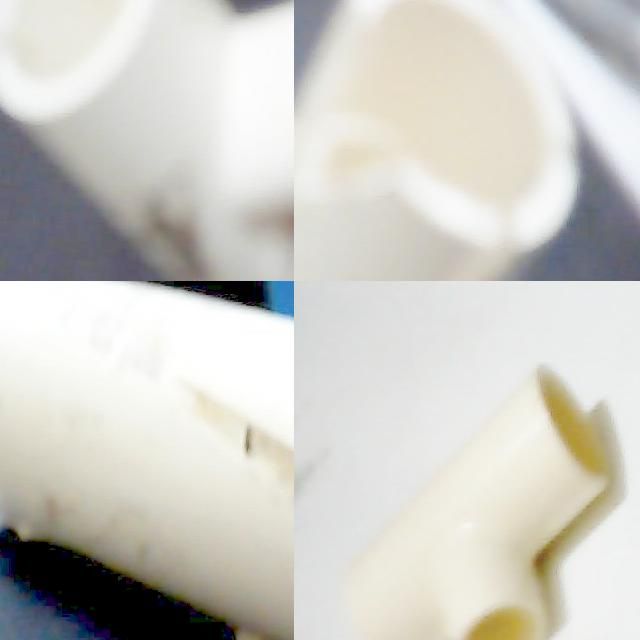Defective: (149, 338, 294, 608), (294, 5, 410, 200), (116, 181, 262, 281), (427, 205, 532, 281), (0, 335, 24, 451)
T Joint: (345, 366, 608, 640)
